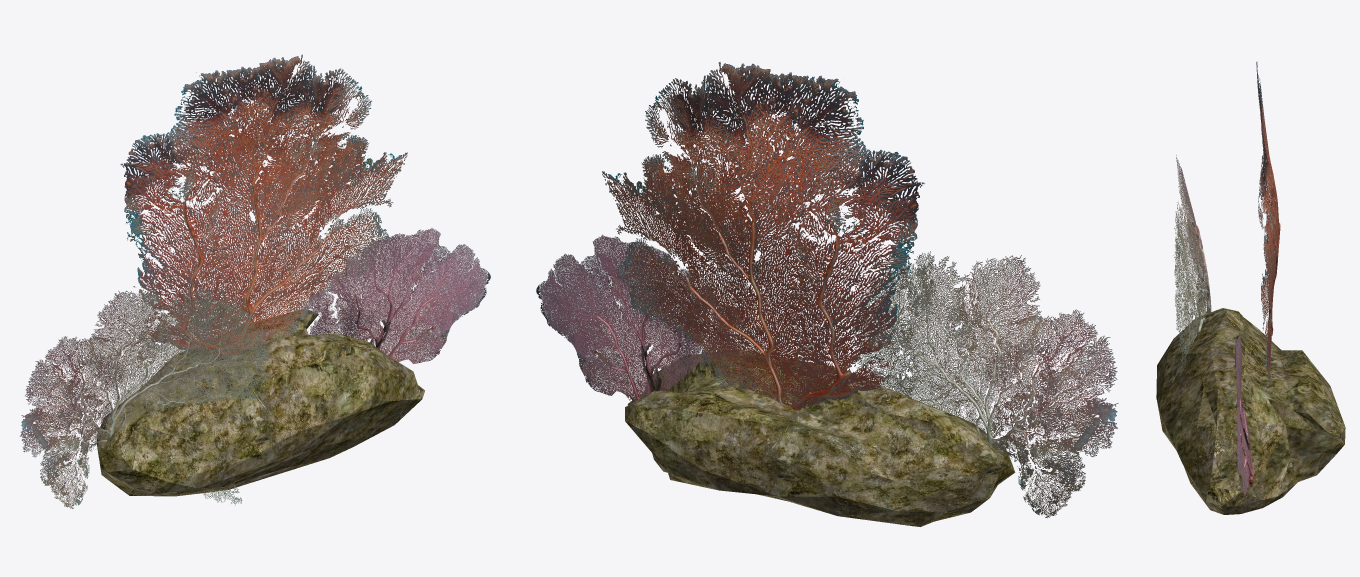
File: annella-mollis.glb
The picture shows the model from 3 angles, left to right: view 1: azimuth 30°, elevation 25°; view 2: azimuth 150°, elevation 25°; view 3: azimuth 270°, elevation 25°; orthographic projection. The views are drawn at different scales.
Parts seen in each view (by area): view 1: fan0, rock, fan1, fan2; view 2: fan0, rock, fan1, fan2; view 3: rock, fan1, fan0, fan2.
Boxes of the visible parts, box(x1,y1,x2,y2) form: fan0: box(120, 54, 407, 357); rock: box(96, 310, 424, 496); fan1: box(19, 287, 268, 508); fan2: box(306, 228, 490, 363); fan0: box(602, 62, 924, 410); rock: box(625, 350, 1015, 526); fan1: box(852, 251, 1118, 518); fan2: box(536, 234, 743, 402); rock: box(1156, 308, 1345, 514); fan1: box(1173, 155, 1211, 367); fan0: box(1256, 61, 1280, 392); fan2: box(1235, 335, 1254, 497).
Bounding box in the file's own units: 1.68 × 1.3 × 0.55.
7 materials, 7 textured.
